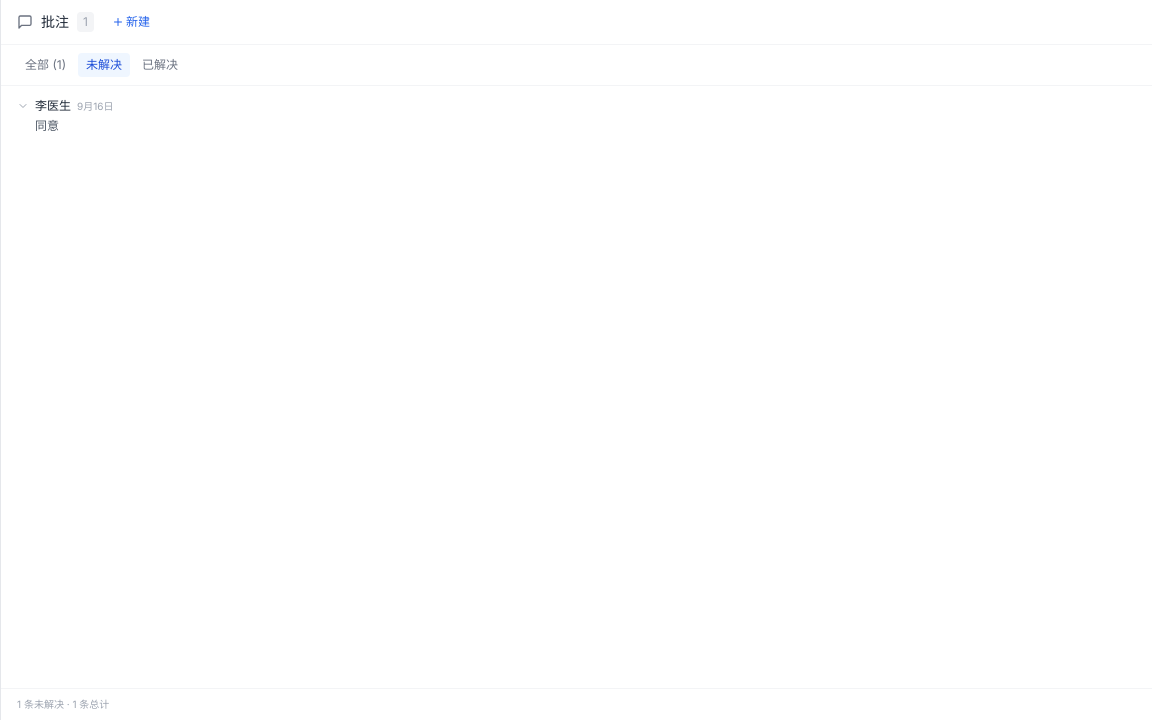
Scenario: CommentPanel — 新建批注入口 › 锚定失败 (返回 false) → 显示提示且**不收起**输入框 (不留"点了没反应")
Click the button "新建". click: (131, 22)
box: [106,12,156,32]
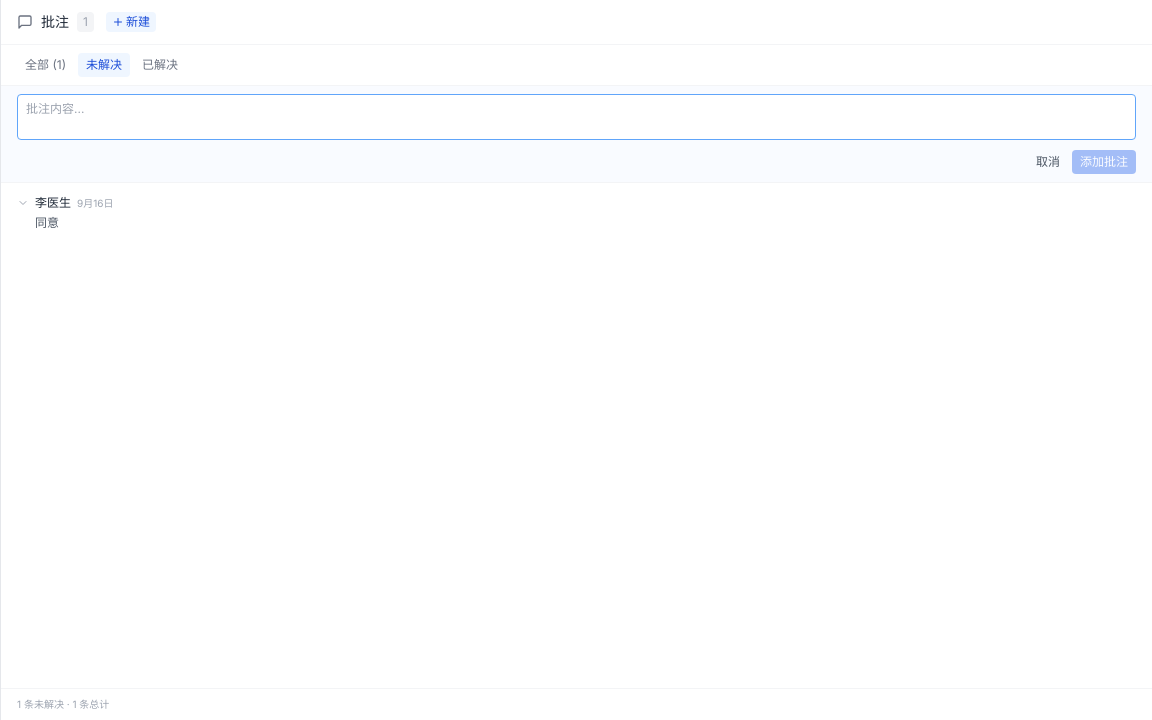
Type "跨段选择" into the text box with placeholder "批注内容...". click: (576, 117)
box: [17,94,1136,140]
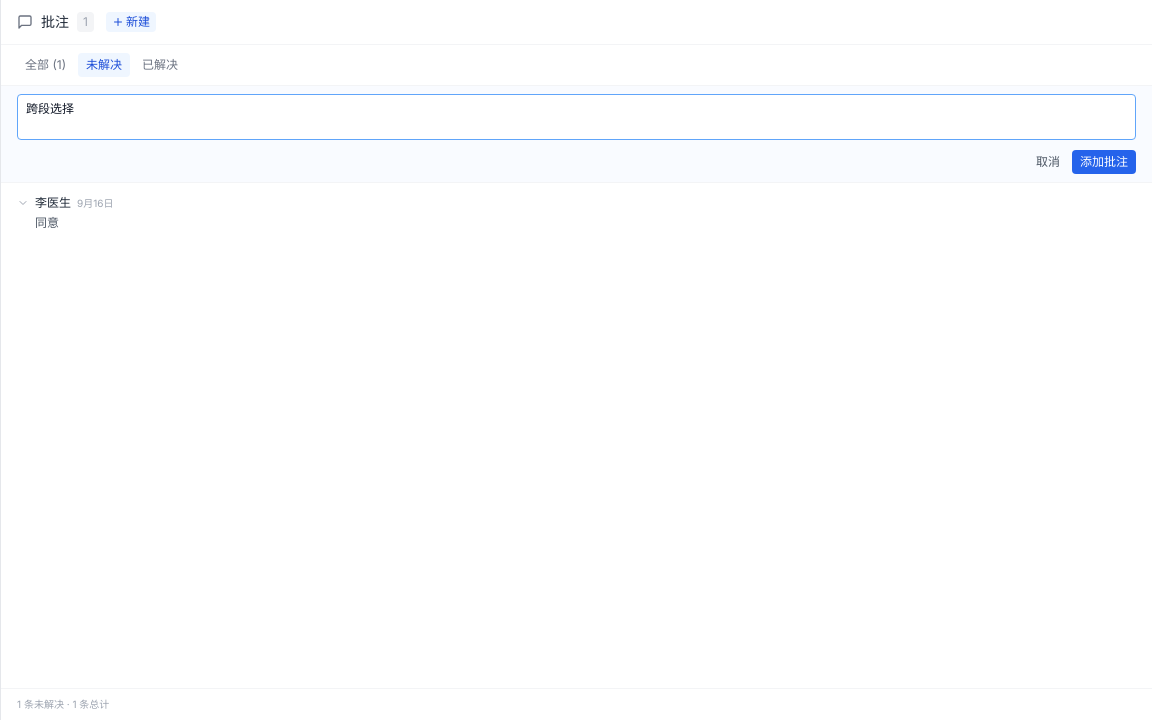
Click the button "添加批注". click: (1104, 162)
box: [1072,150,1136,174]
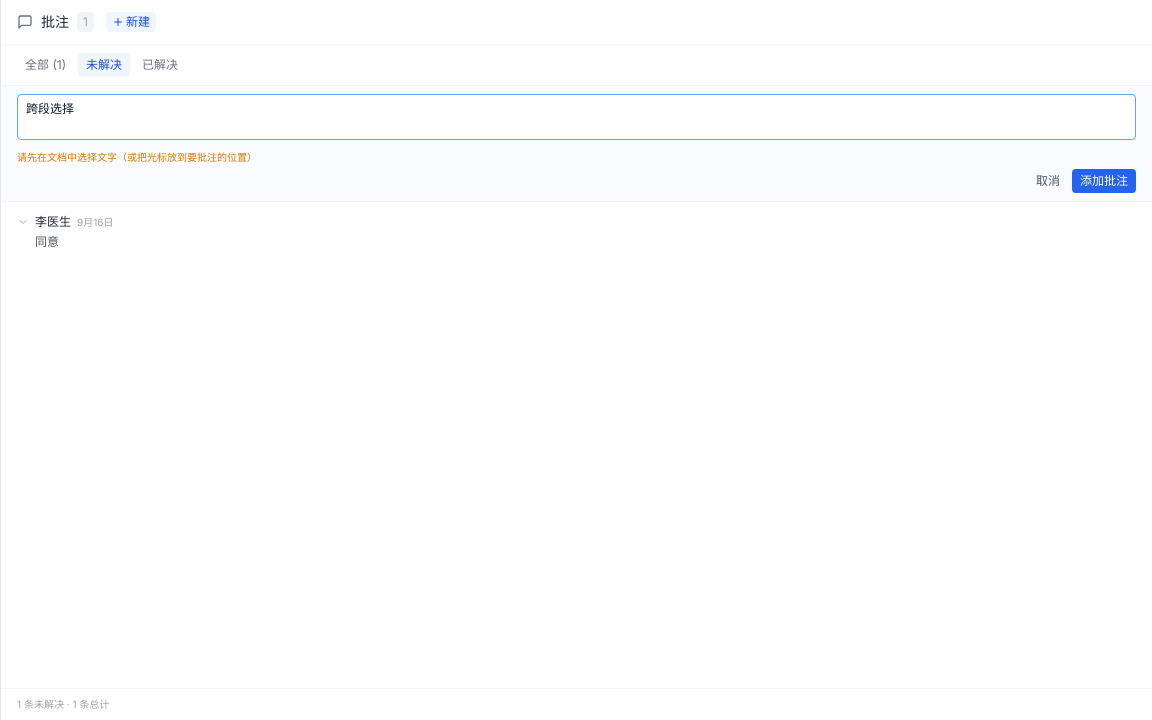
Expected: the text "请先在文档中选择文字（或把光标放到要批注的位置）" is shown, [17,151,257,163]
